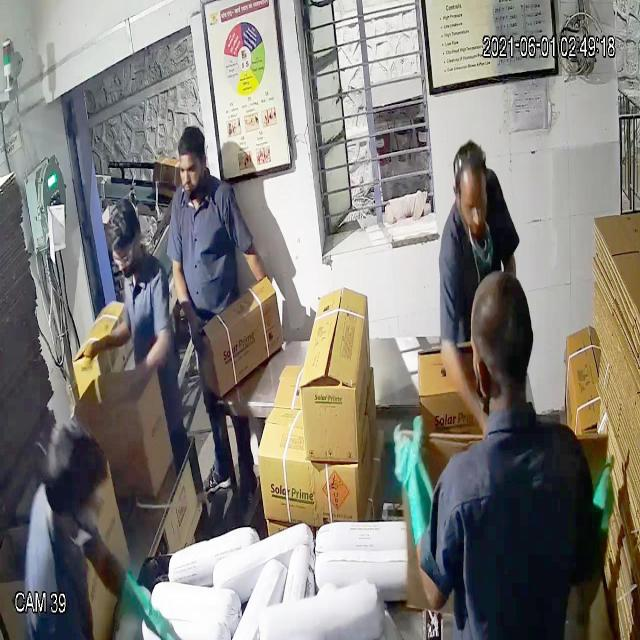glasses: (102, 237, 142, 275)
no-glass: (450, 188, 494, 218)
